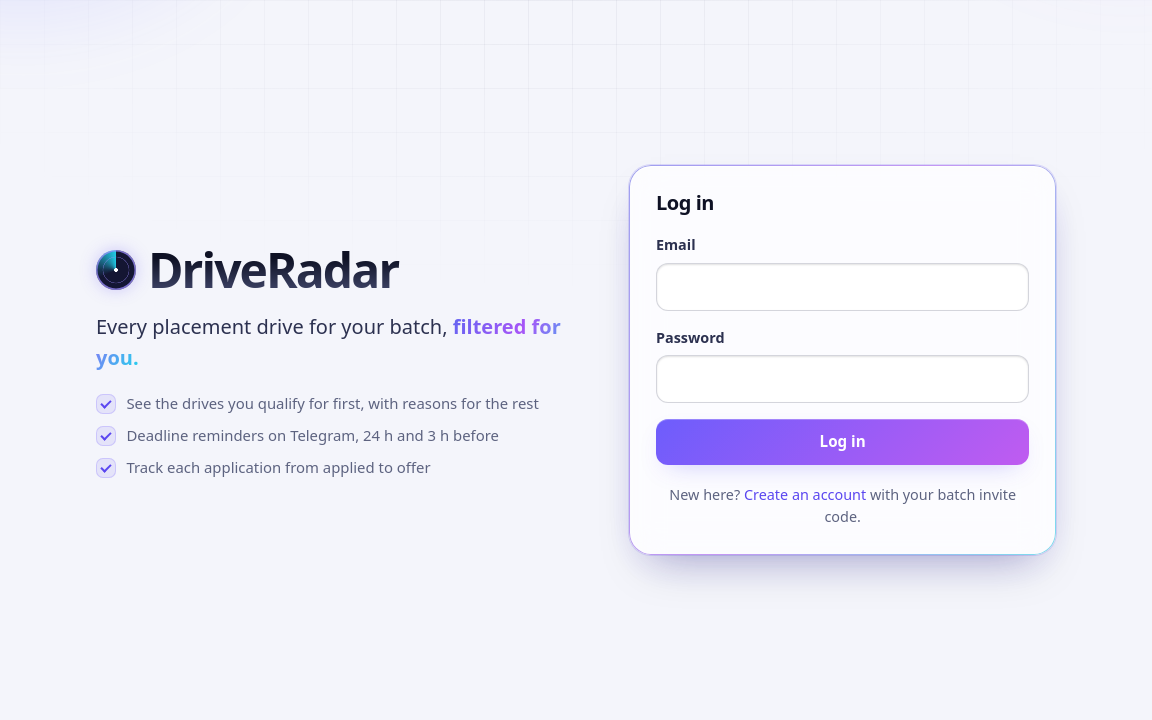
Scenario: waking banner › doesn't retry a login POST; it explains and lets the user try again
The width and height of the screenshot is (1152, 720).
Type "asha@example.com" into the field labelled "Email" at (843, 287), box [656,263,1029,311]
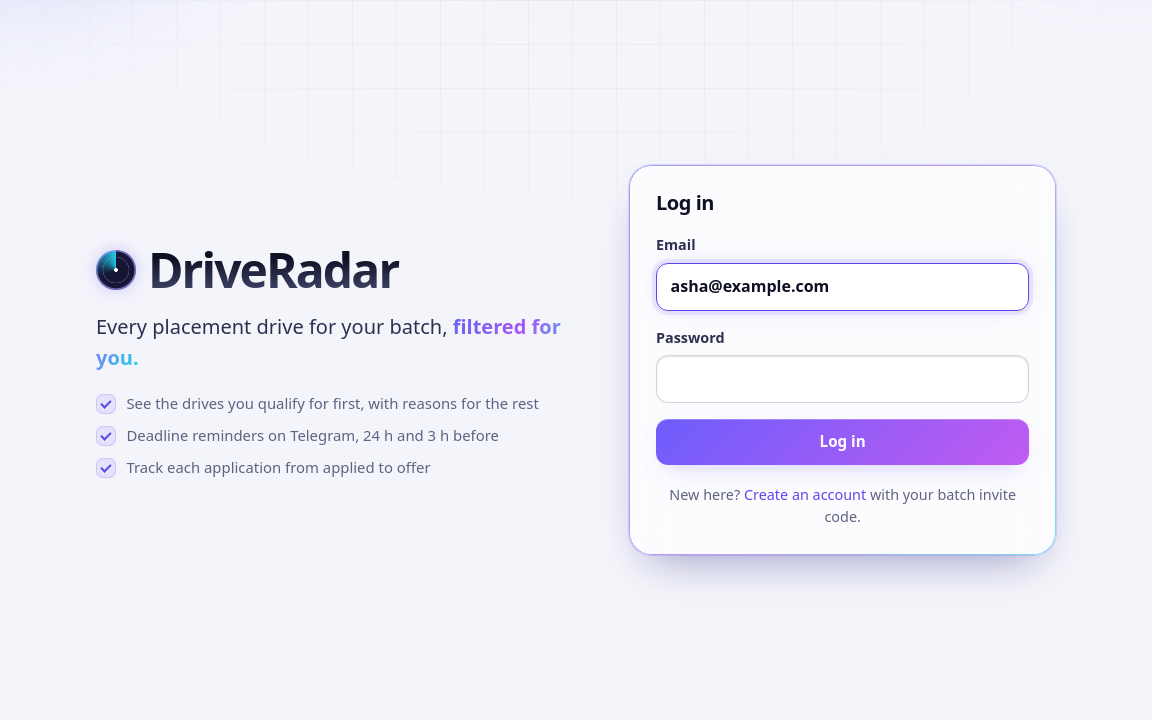
Type "whatever-pw" into the password field labelled "Password" at (843, 379), box [656,355,1029,403]
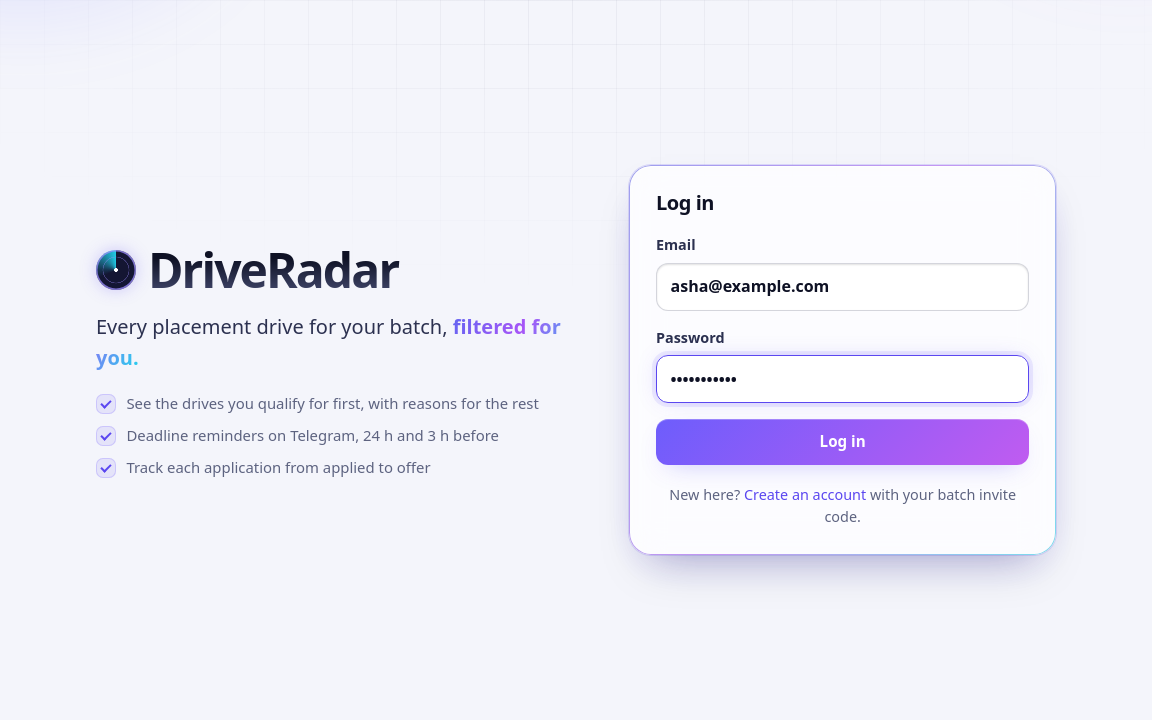
Click the button "Log in" at (843, 442), box [656,419,1029,465]
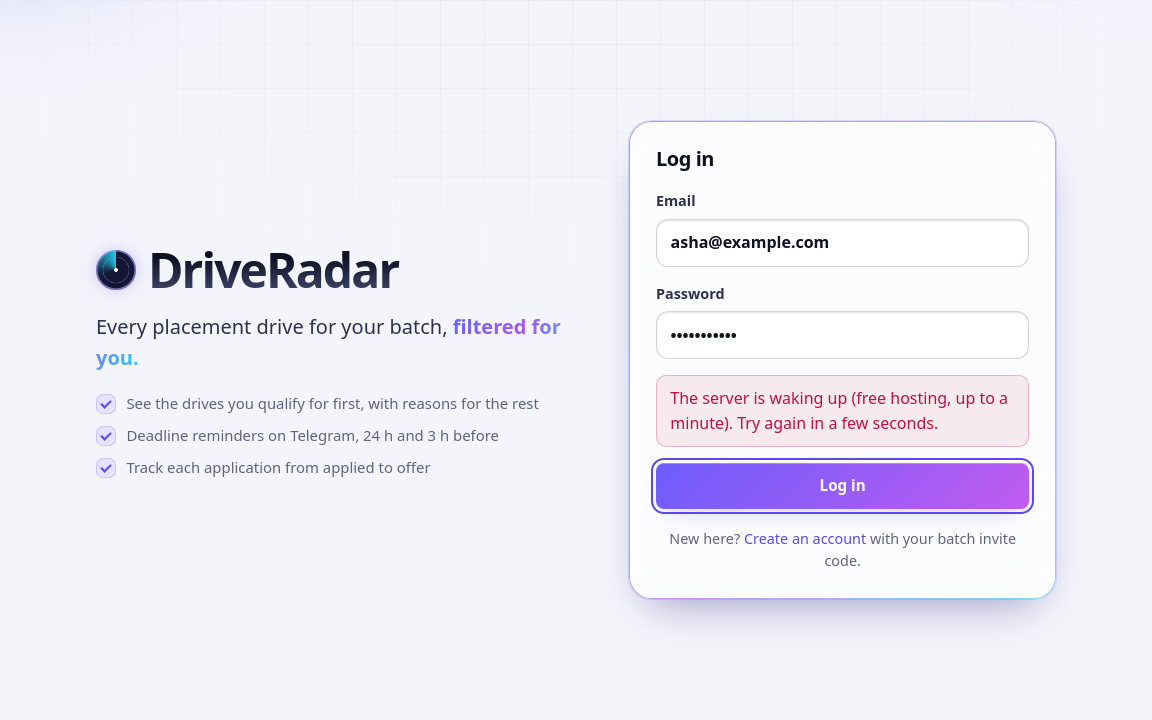
expect the message shows "waking up": met, box [670,387,1008,434]
